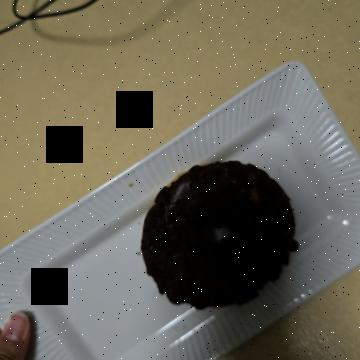doughnut: (153, 50, 322, 230)
